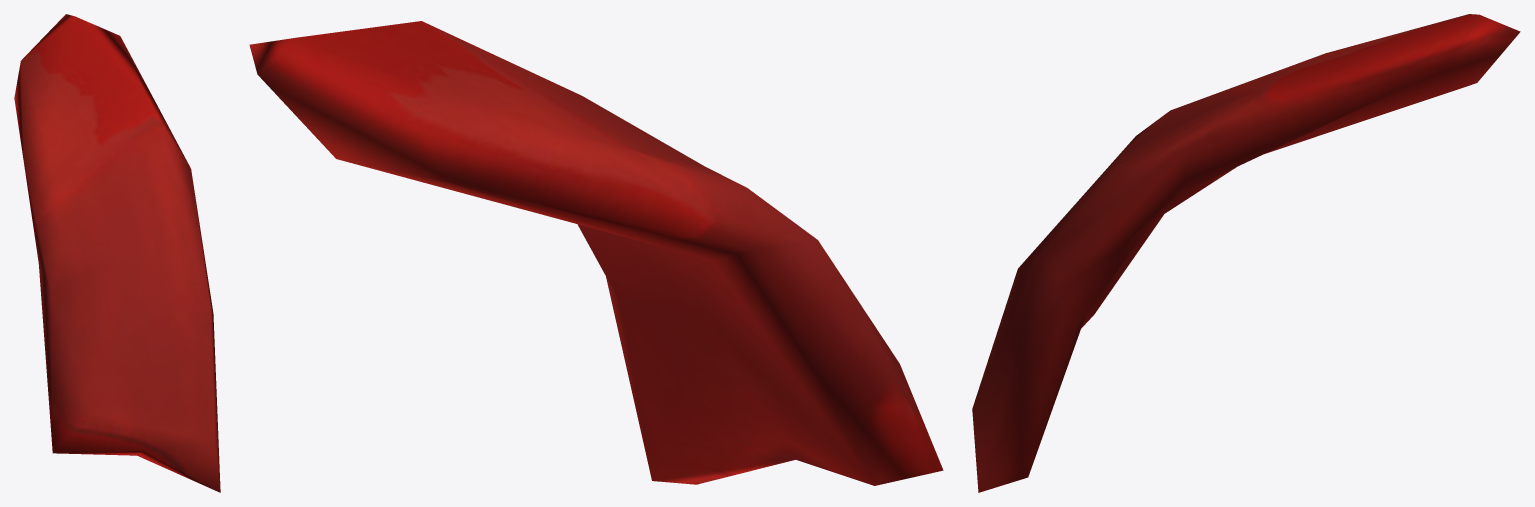
File: Face_Mucle_12.glb
3 renders of one model, left to right at view 1: azimuth 30°, elevation 25°; view 2: azimuth 150°, elevation 25°; view 3: azimuth 270°, elevation 25°, orthographic. The views are drawn at different scales.
Visible parts, largest first — view 1: Face_Mucle_12; view 2: Face_Mucle_12; view 3: Face_Mucle_12.
Part boxes in pixels (<box>): Face_Mucle_12: <box>14,14,220,492</box>; Face_Mucle_12: <box>249,21,943,485</box>; Face_Mucle_12: <box>972,14,1520,492</box>.
Bounding box in the file's own units: 0.0529 × 0.0837 × 0.0836.
Materials: 1 (1 with a texture image).
